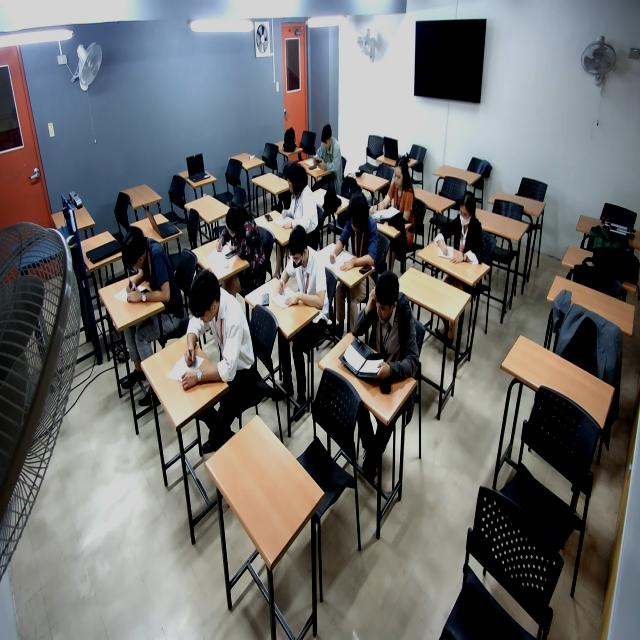read: (179, 271, 253, 397), (318, 200, 379, 285), (432, 185, 487, 272), (272, 223, 330, 305), (115, 230, 168, 319), (210, 205, 258, 283), (365, 160, 414, 226), (275, 172, 315, 239), (304, 127, 342, 178)
